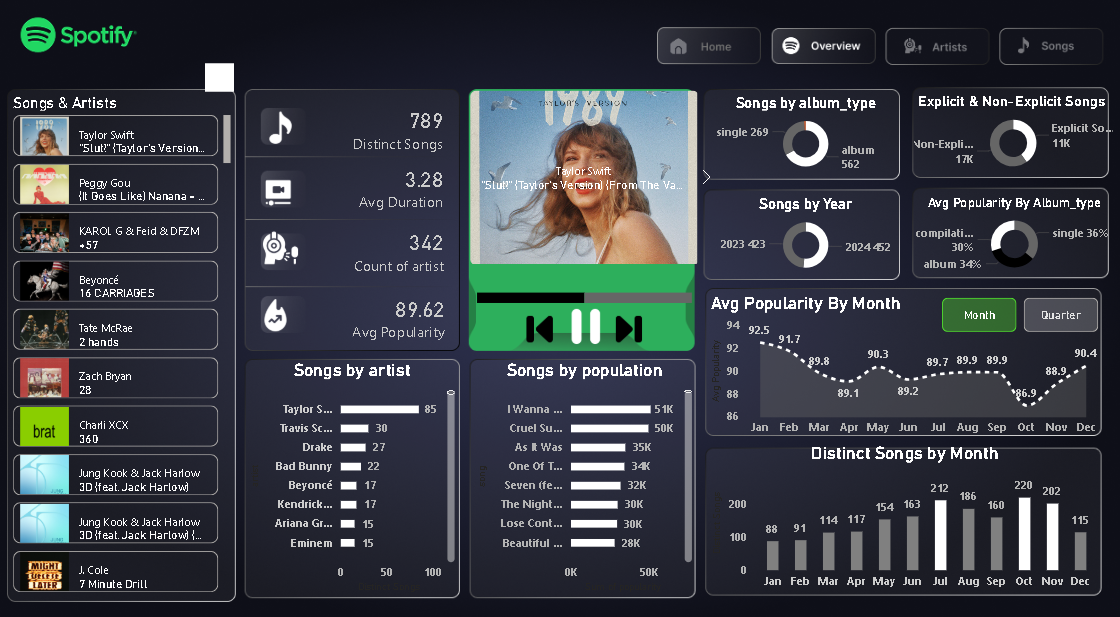

The page's visual inventory and layout, read from the dashboard file:
{"tool":"powerbi","page":{"name":"Page 1","canvas":[1280,720],"ordinal":0},"visuals":[{"type":"clusteredBarChart","title":"Songs by artist","fields":{"Category":["Top-50-World.artist"],"Y":["Measure.Distinct Songs"]},"box":[296.4,411.7,238.8,264.8],"z":0},{"type":"clusteredBarChart","title":"Songs by population","fields":{"Category":["Top-50-World.song"],"Y":["Sum(Top-50-World.popularity)"]},"box":[550.3,411.7,249.7,264.8],"z":1000},{"type":"areaChart","title":"Avg Popularity By Month","fields":{"Category":["Top-50-World.Month"],"Y":["Measure.Avg Popularity"]},"box":[811.7,337.5,442.1,167.4],"z":2000},{"type":"advancedSlicerVisual","fields":{"Values":["Parameter.Parameter"]},"box":[1069.7,337.5,184.1,48.8],"z":3000},{"type":"donutChart","title":"Songs by album_type","fields":{"Y":["Measure.Distinct Songs"],"Category":["Top-50-World.album_type"]},"box":[811.7,114.4,221.7,93.4],"z":4000},{"type":"donutChart","title":"Explicit & Non-Explicit Songs","fields":{"Y":["Measure.Explicit Songs","Measure.Non-Explicit Songs"]},"box":[1043.2,114.4,221.7,93.4],"z":5000},{"type":"donutChart","title":"Avg Popularity By Album_type","fields":{"Category":["Top-50-World.album_type"],"Y":["Measure.Avg Popularity"]},"box":[1044.6,227.3,221.7,93.4],"z":6000},{"type":"donutChart","title":"Songs by Year","fields":{"Y":["Measure.Distinct Songs"],"Category":["Top-50-World.Year"]},"box":[811.7,227.3,221.7,93.4],"z":7000},{"type":"columnChart","fields":{"Category":["Top-50-World.Month"],"Y":["Measure.Distinct Songs"]},"box":[813.1,504.9,440.7,171.5],"z":8000},{"type":"cardVisual","fields":{"Data":["Measure.Distinct Songs"]},"box":[373.8,114.4,161.8,75.3],"z":9000},{"type":"cardVisual","fields":{"Data":["Count(Top-50-World.artist)"]},"box":[344.5,246.9,191.1,90.7],"z":9001},{"type":"cardVisual","fields":{"Data":["Measure.Avg Duration Minutes"]},"box":[320.8,179.9,214.8,73.9],"z":9002},{"type":"cardVisual","fields":{"Data":["Measure.Avg Popularity"]},"box":[345.9,320.8,191.1,90.7],"z":9003},{"type":"image","box":[309.6,262.2,54.4,48.8],"z":9004},{"type":"image","box":[309.6,338.9,54.4,46],"z":9005},{"type":"image","box":[309.6,129.7,54.4,46],"z":9006},{"type":"image","box":[297.1,203.6,73.9,43.2],"z":9007},{"type":"advancedSlicerVisual","title":"Songs & Artists","fields":{"Values":["Top-50-World.song"]},"box":[33.5,114.4,252.4,562],"z":9008},{"type":"advancedSlicerVisual","title":"Songs & Artists","fields":{"Values":["Top-50-World.song"]},"box":[521.6,104.6,306.8,206.4],"z":9009},{"type":"hundredPercentStackedBarChart","fields":{"Y":["Measure.Avg Popularity","Avg(Top-50-World.popularity)"]},"box":[550.9,308.2,249.6,61.4],"z":9010},{"type":"image","box":[598.3,355.6,54.4,43.2],"z":9011},{"type":"image","box":[698.7,355.6,53,43.2],"z":9012},{"type":"image","box":[652.7,345.9,48.8,57.2],"z":9013}]}

Visuals, with their boxes in screenshot pixels (x1, y1, x2, y2), scaled from the page's 1280x720 canvas onto the 1120x617 screenshot:
"Songs by artist" clusteredBarChart: (259, 353, 468, 580)
"Songs by population" clusteredBarChart: (482, 353, 700, 580)
"Avg Popularity By Month" areaChart: (710, 289, 1097, 433)
advancedSlicerVisual - Parameter.Parameter: (936, 289, 1097, 331)
"Songs by album_type" donutChart: (710, 98, 904, 178)
"Explicit & Non-Explicit Songs" donutChart: (913, 98, 1107, 178)
"Avg Popularity By Album_type" donutChart: (914, 195, 1108, 275)
"Songs by Year" donutChart: (710, 195, 904, 275)
columnChart - Top-50-World.Month x Measure.Distinct Songs: (711, 433, 1097, 580)
cardVisual - Measure.Distinct Songs: (327, 98, 469, 163)
cardVisual - Count(Top-50-World.artist): (301, 212, 469, 289)
cardVisual - Measure.Avg Duration Minutes: (281, 154, 469, 217)
cardVisual - Measure.Avg Popularity: (303, 275, 470, 353)
image: (271, 225, 318, 267)
image: (271, 290, 318, 330)
image: (271, 111, 318, 151)
image: (260, 174, 325, 211)
"Songs & Artists" advancedSlicerVisual: (29, 98, 250, 580)
"Songs & Artists" advancedSlicerVisual: (456, 90, 725, 267)
hundredPercentStackedBarChart - Measure.Avg Popularity x Avg(Top-50-World.popularity): (482, 264, 700, 317)
image: (524, 305, 571, 342)
image: (611, 305, 658, 342)
image: (571, 296, 614, 345)
